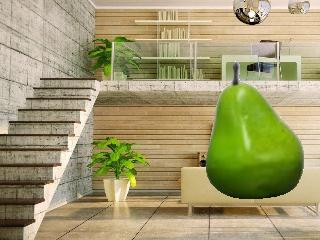pear: (202, 60, 308, 203)
